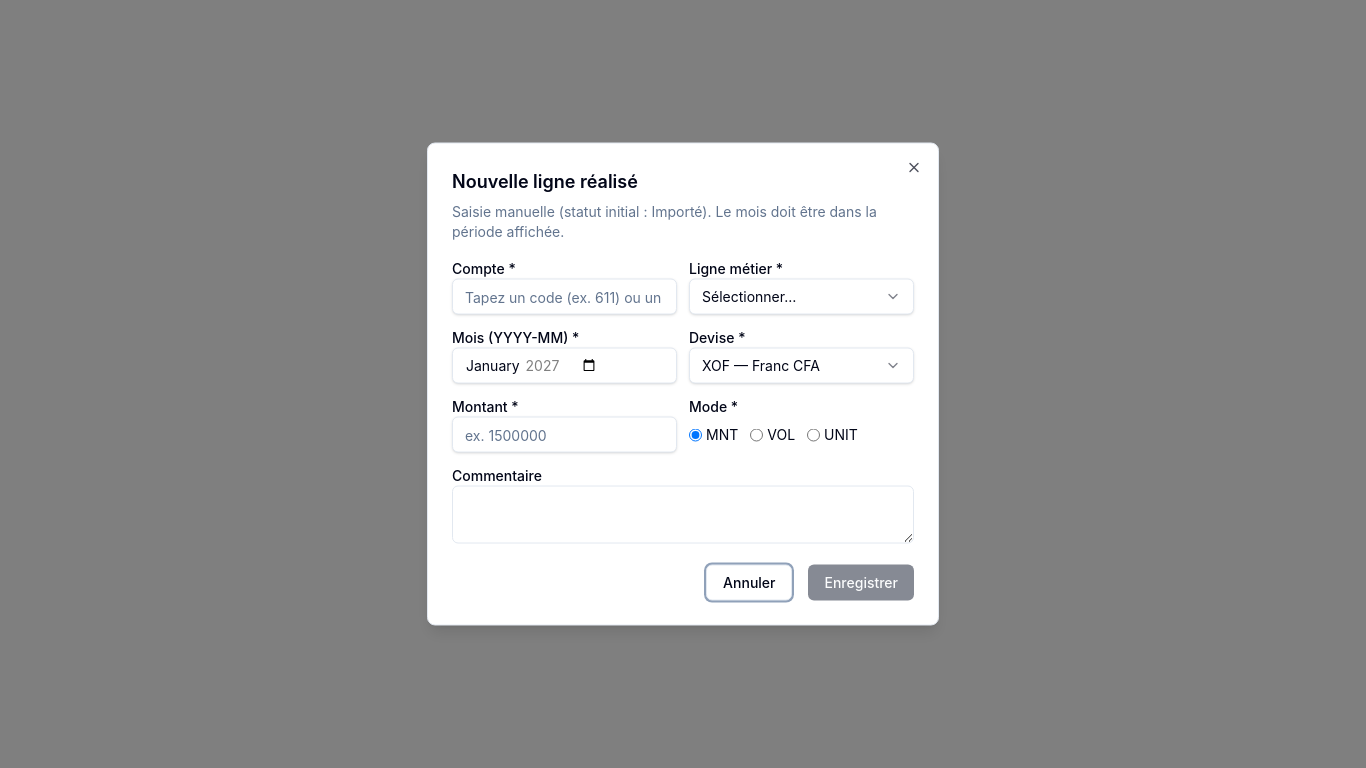
Scenario: CreerModifierLigneRealiseDialog › compte 66 trouvable à la recherche (corrige limit:200/feuilles)
Type "66" into the field with test id "compte-combobox-input" at [564, 296], box [452, 278, 677, 314]
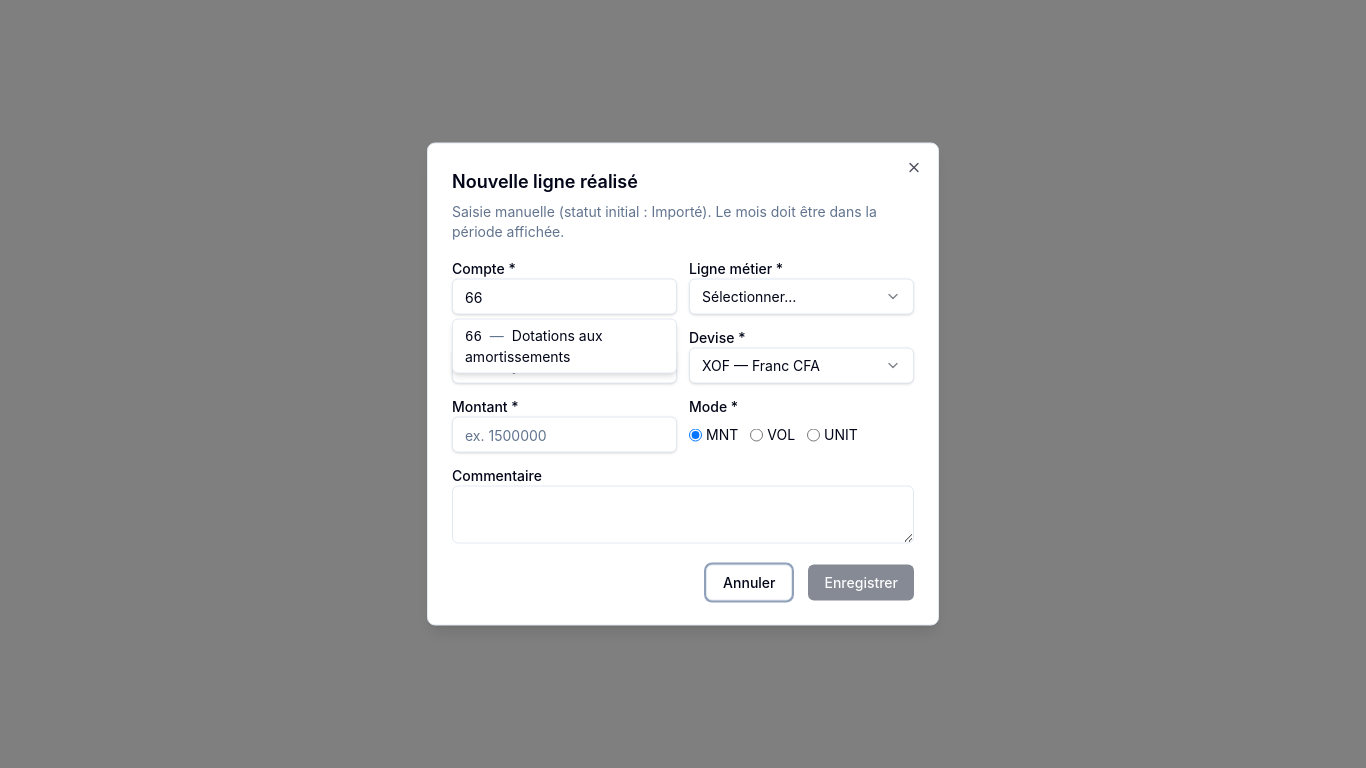
Check: the option with test id "compte-option-66" is shown, box [465, 326, 603, 364]
